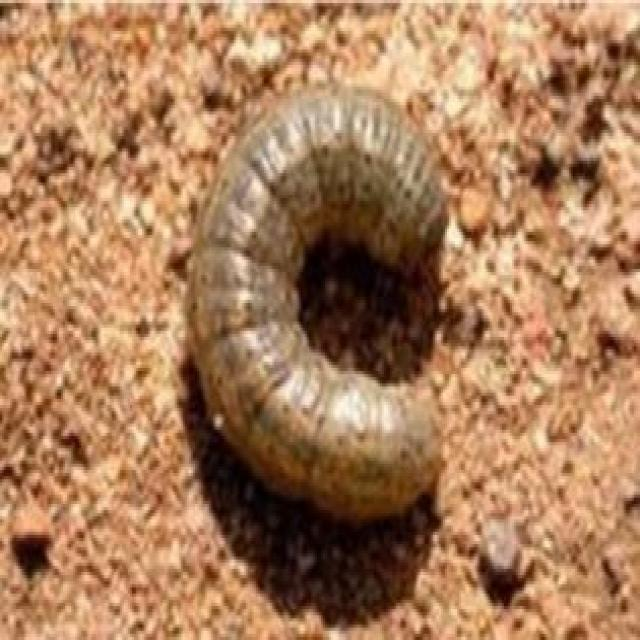BeetArmyWorm-Larva-: (172, 74, 461, 518)
